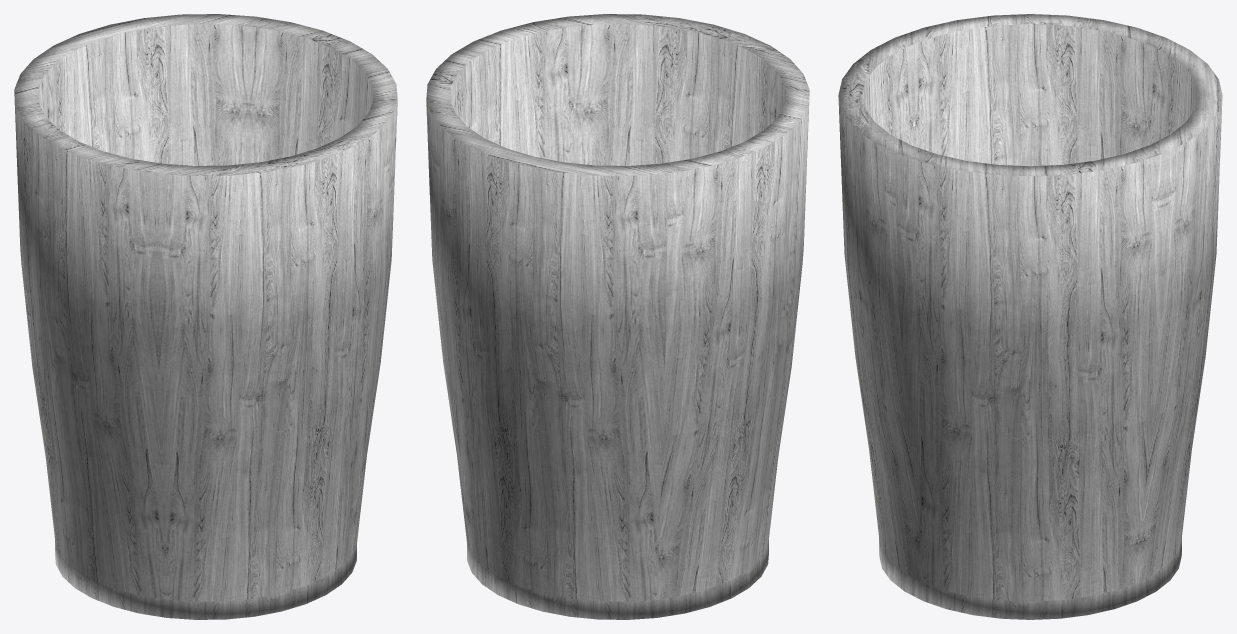
Rendered from Vaso_2.fbx.
3 renders of one model, left to right at view 1: azimuth 30°, elevation 25°; view 2: azimuth 150°, elevation 25°; view 3: azimuth 270°, elevation 25°, orthographic.
Visible parts, largest first — view 1: Circle; view 2: Circle; view 3: Circle.
Part boxes in pixels (bbox=[...]): Circle: bbox=[14, 14, 397, 619]; Circle: bbox=[426, 14, 809, 619]; Circle: bbox=[838, 14, 1222, 619].
Bounding box in the file's own units: 254 × 336 × 254.
Materials: 1 (1 with a texture image).
